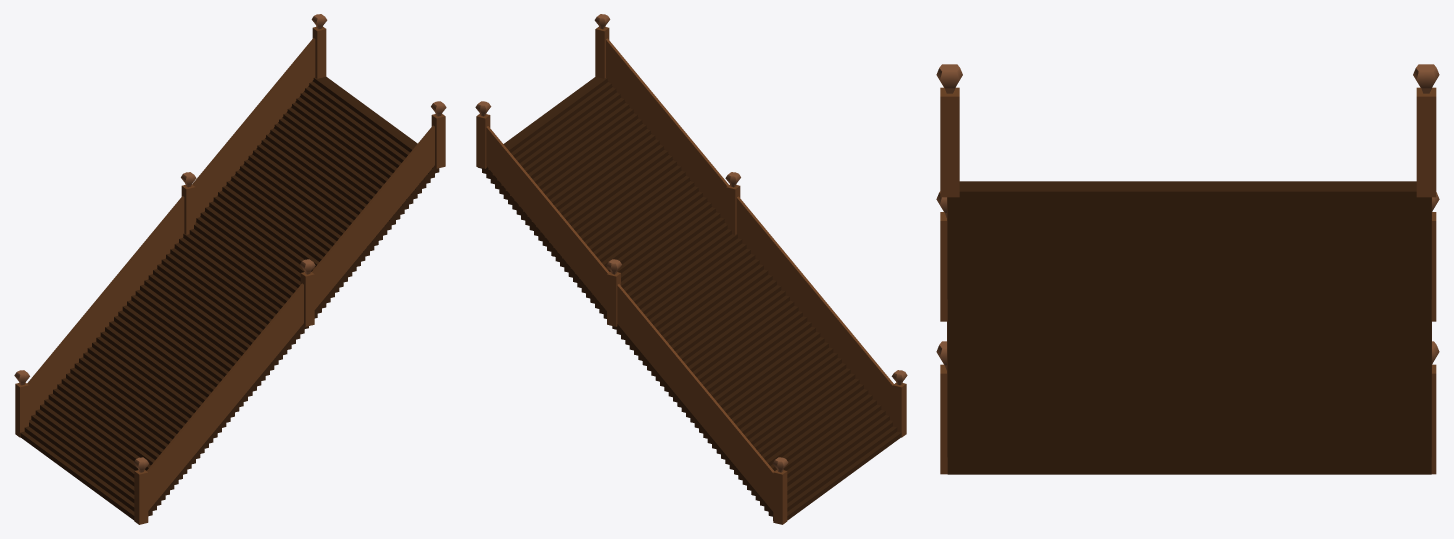
Rendered from trap.fbx.
3 views of the same model, side by side, from view 1: azimuth 30°, elevation 25°; view 2: azimuth 150°, elevation 25°; view 3: azimuth 270°, elevation 25° (orthographic). The views are drawn at different scales.
Visible parts, largest first — view 1: stairs; view 2: stairs; view 3: stairs.
Boxes of the visible parts, x1,y1,x2,y2 form: stairs: [14, 14, 446, 524]; stairs: [475, 14, 907, 524]; stairs: [936, 64, 1439, 474].
Size of the model in its own units: 16.57 by 17.77 by 11.71.
